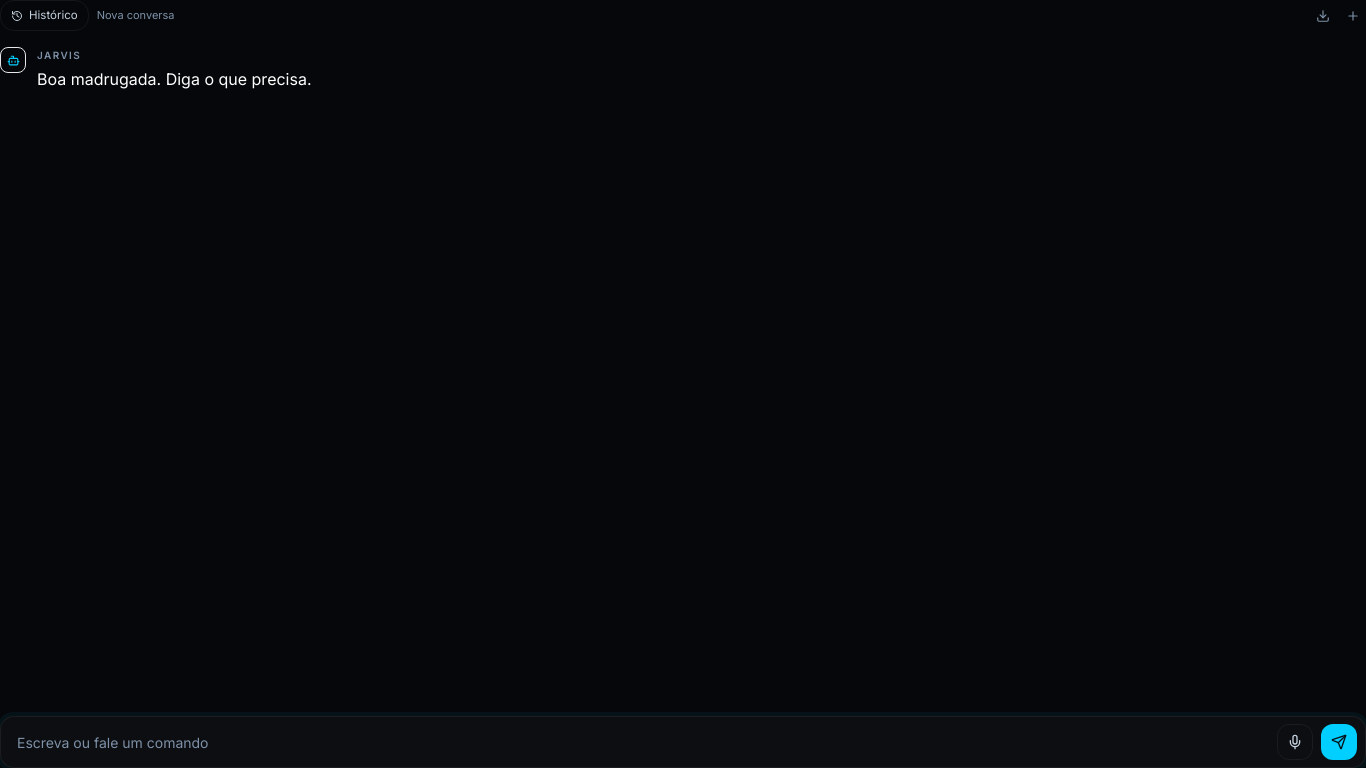
Test case: enviar › escrever e carregar em Enter põe o pedido na conversa
Step 1. Type "que horas são" into the field named "Comando para o assistente" → (643, 742), box [17,732,1269,752]
Then press Enter
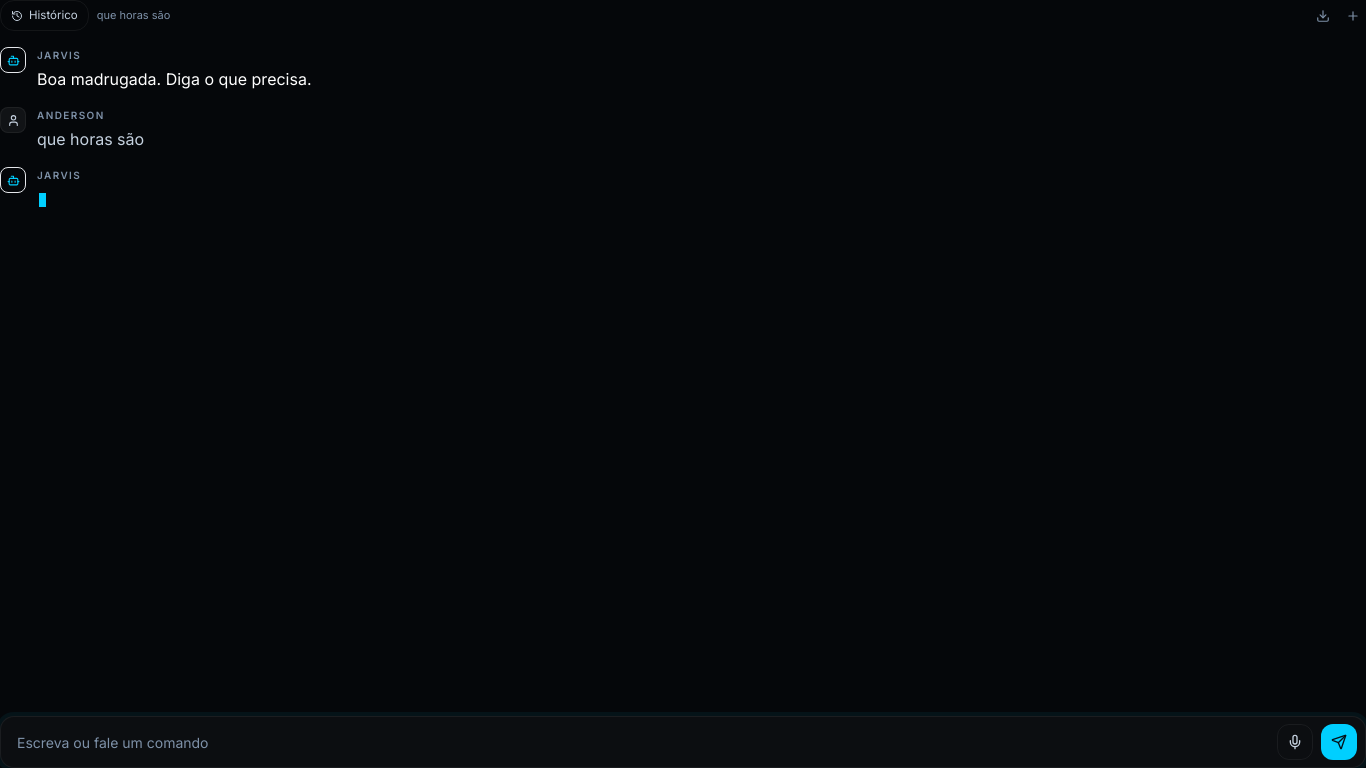
Expected: the text "que horas são" below "Anderson" is shown, [37,129,144,149]
